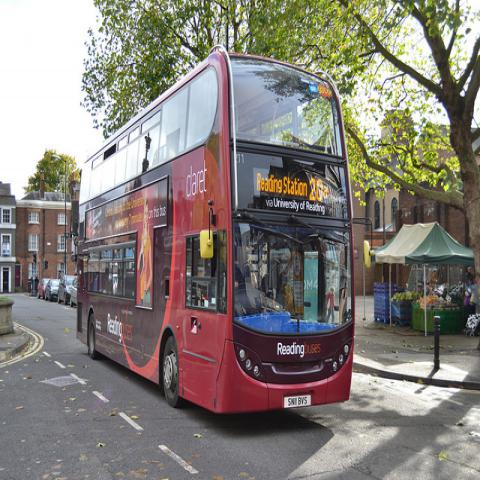bus: (75, 47, 355, 415)
car: (44, 278, 60, 302), (57, 282, 72, 304), (60, 274, 76, 293), (37, 278, 50, 298), (70, 278, 78, 307)
